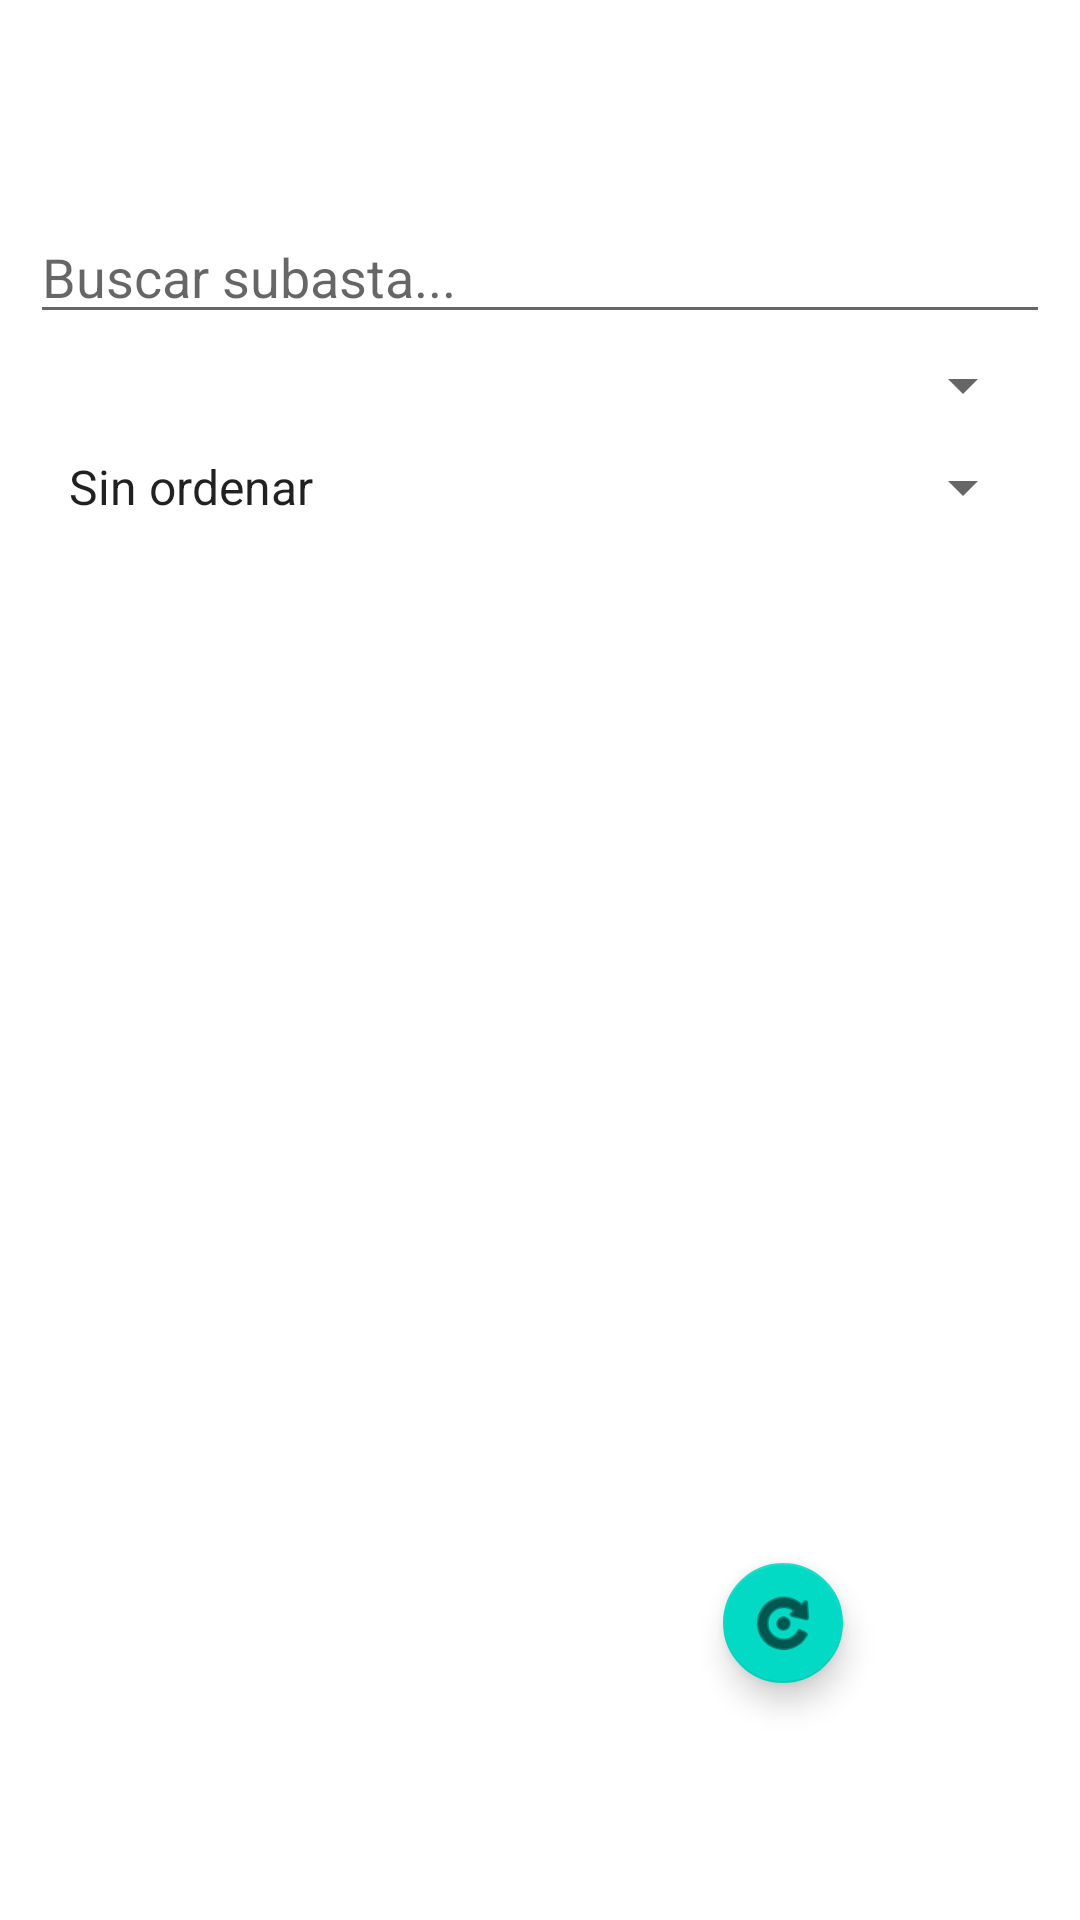

Icon click points for this 1080×1920 phone screenshot, format [x,y]:
rotate: [783,1629]
